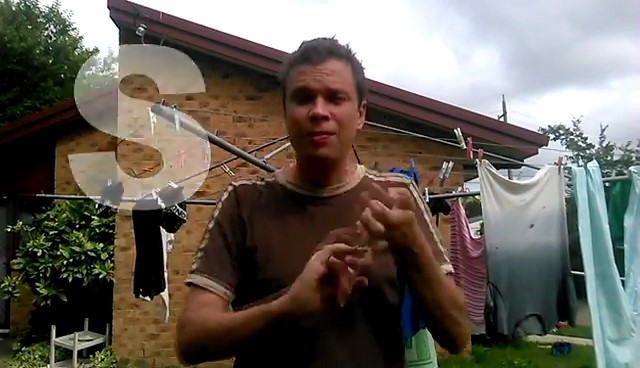S: (290, 174, 425, 324)
